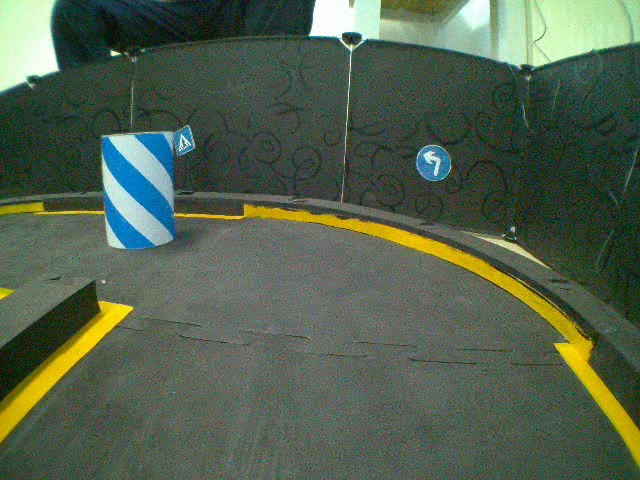bucket: (97, 128, 178, 253)
